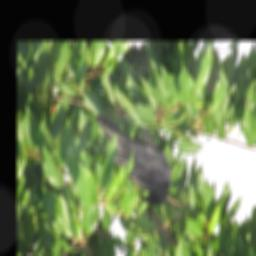Crow: (94, 115, 172, 206)
